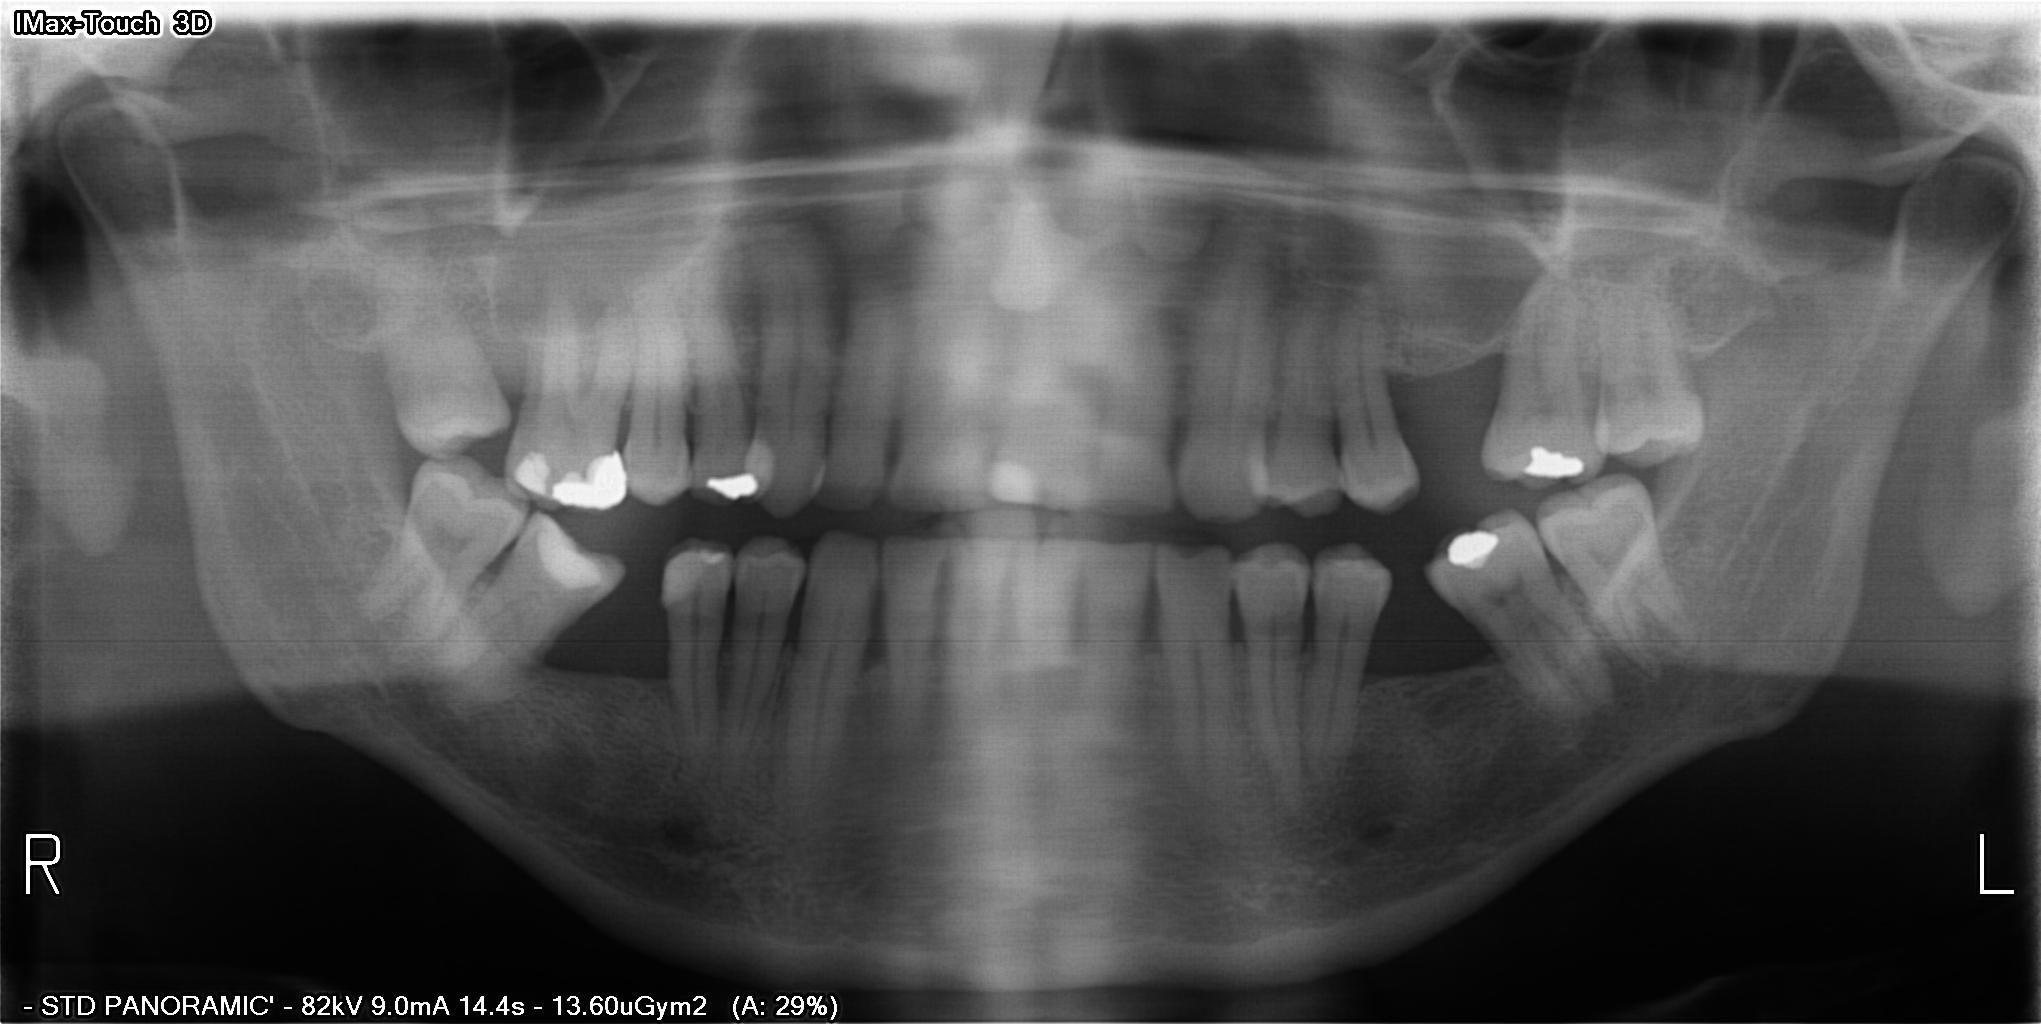Çürük: (528, 516, 622, 597), (550, 448, 636, 508), (653, 550, 731, 607), (979, 452, 1041, 509), (1523, 438, 1588, 486), (1436, 529, 1506, 568), (507, 452, 559, 498), (743, 435, 781, 494), (703, 466, 767, 498)
